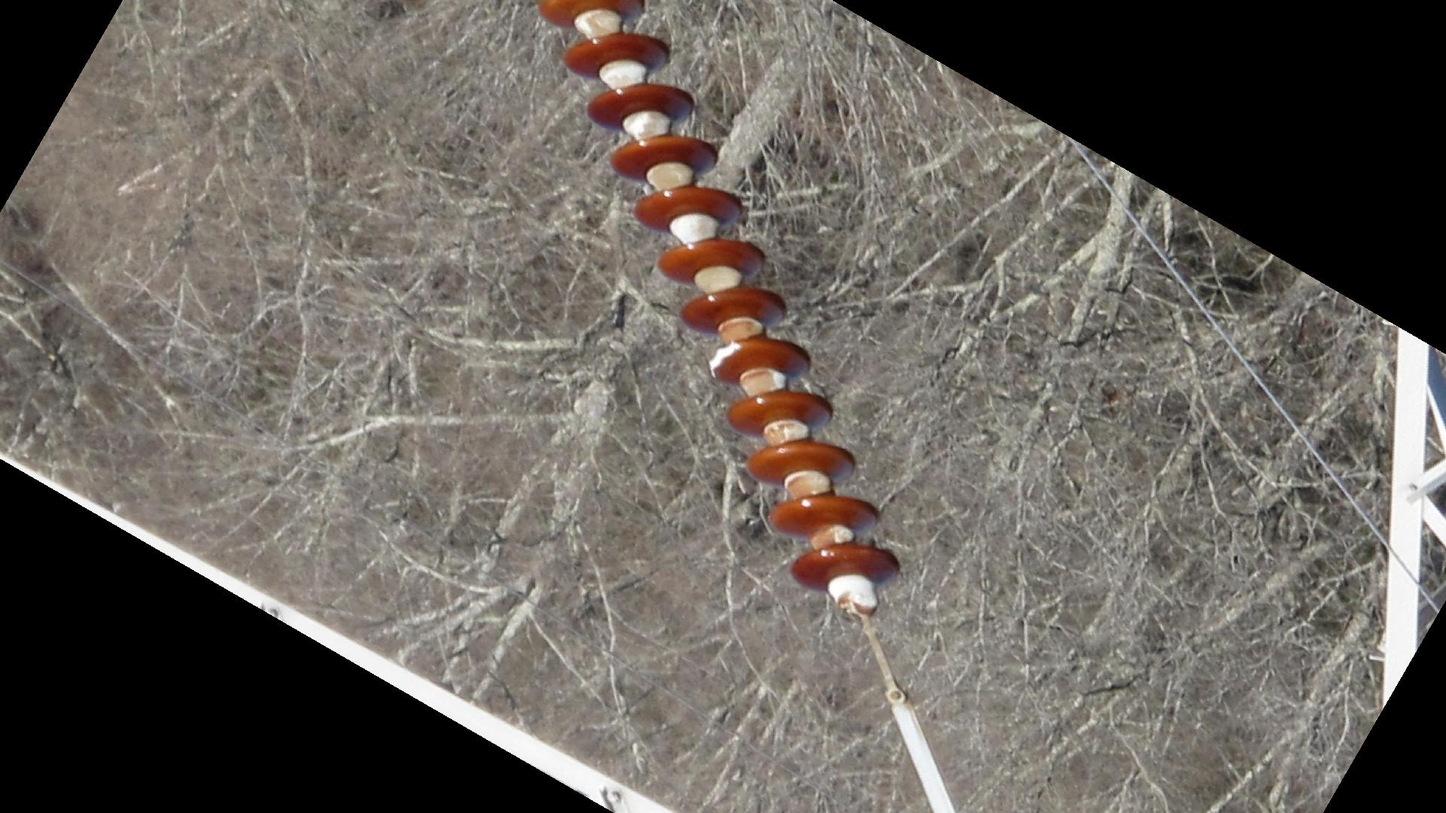insulator: (530, 1, 905, 598)
insulator_breakage: (703, 337, 745, 384)
